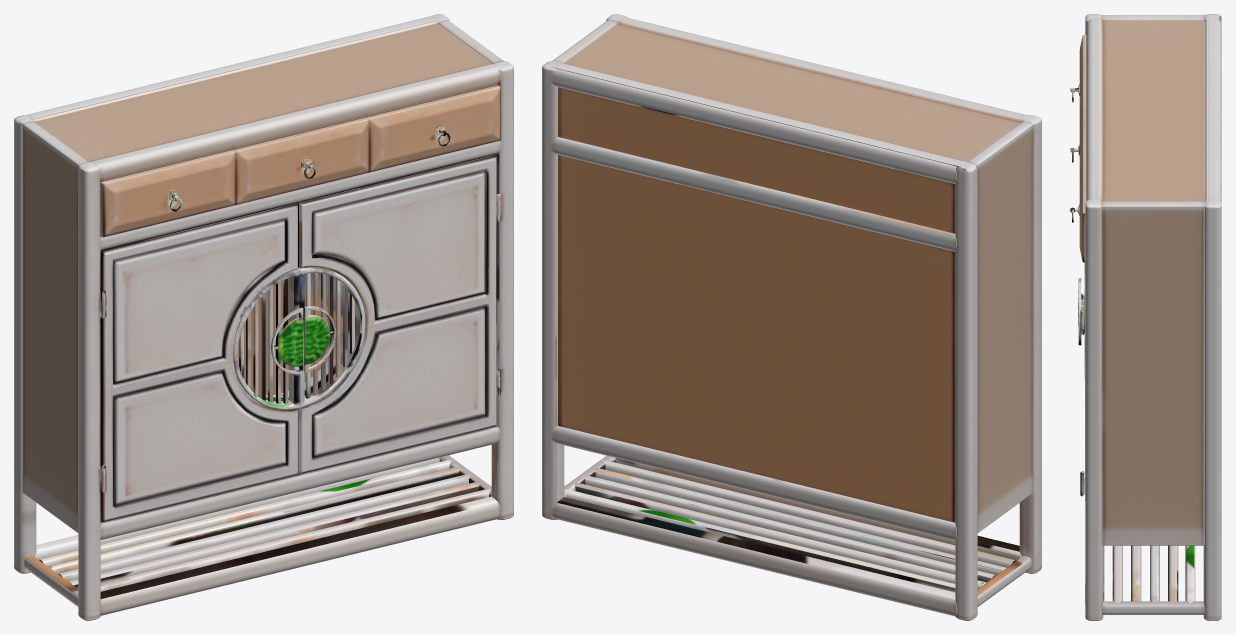
File: edited_mesh.glb
The picture shows the model from 3 angles, left to right: view 1: azimuth 30°, elevation 25°; view 2: azimuth 150°, elevation 25°; view 3: azimuth 270°, elevation 25°; orthographic projection. The views are drawn at different scales.
Parts seen in each view (by area): view 1: solid_001_wire; view 2: solid_001_wire; view 3: solid_001_wire.
Part boxes in pixels (<box>): solid_001_wire: <box>14,14,513,620</box>; solid_001_wire: <box>542,14,1041,620</box>; solid_001_wire: <box>1070,14,1221,620</box>.
Bounding box in the file's own units: 1.33 × 1.34 × 0.4403.
Materials: 1 (1 with a texture image).
